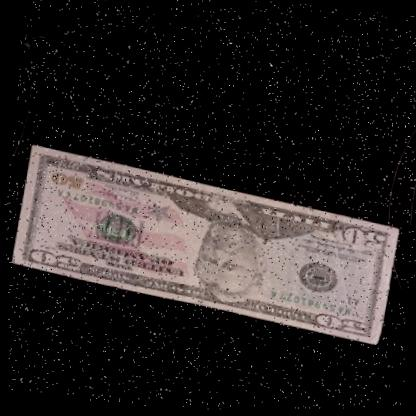fifty-front: (6, 136, 406, 348)
